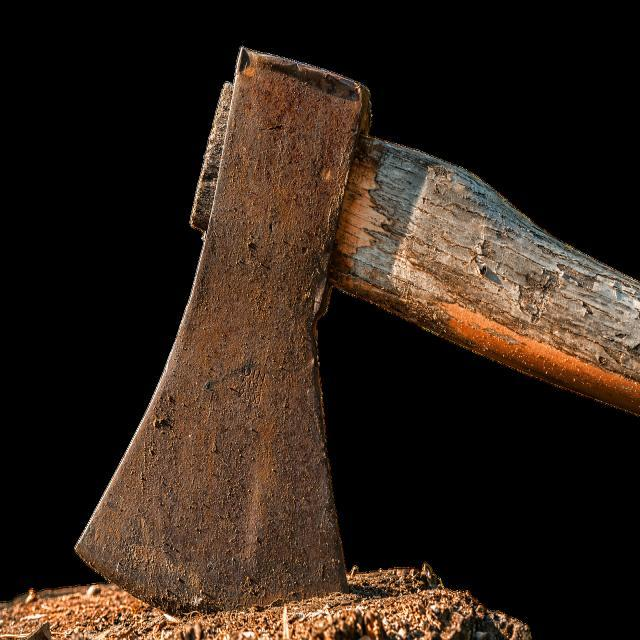Axe: (76, 49, 640, 609)
